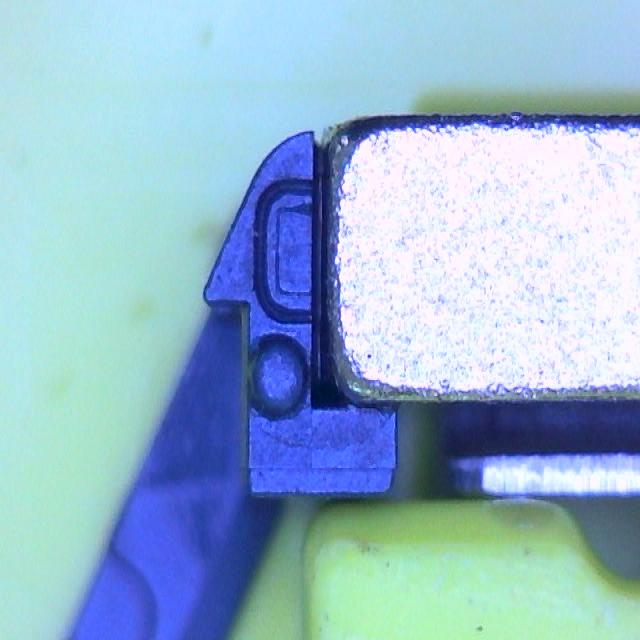lacking: (252, 177, 322, 325)
